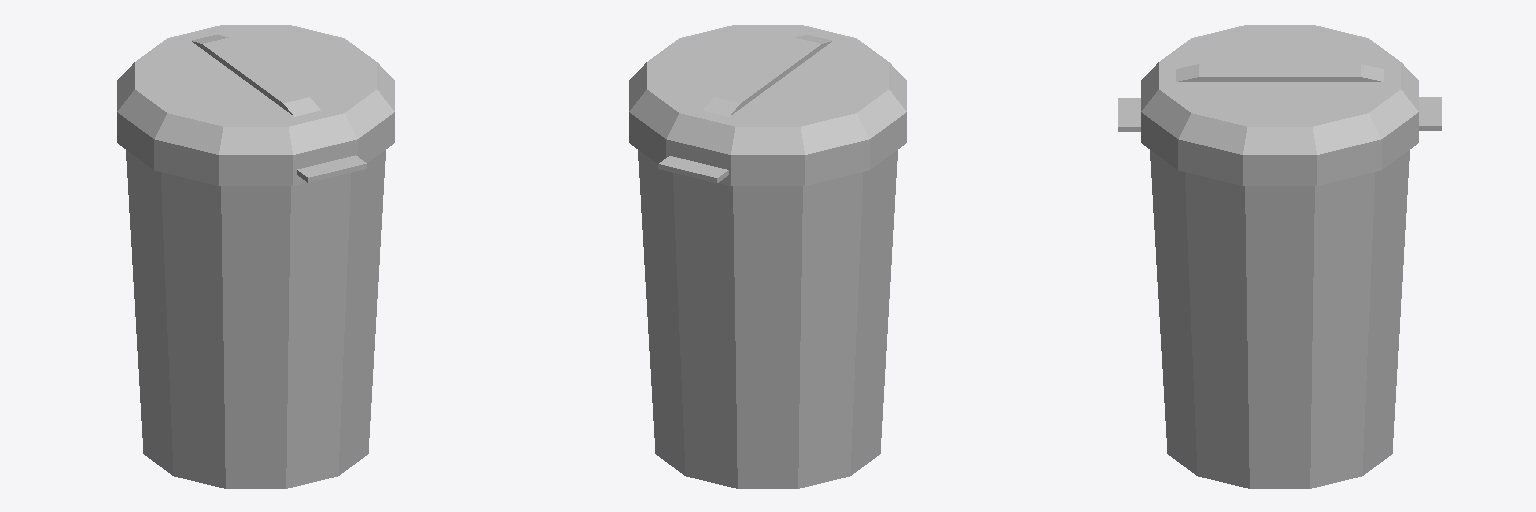
File: Trashcan_Plastic.obj
3 views of the same model, side by side, from view 1: azimuth 30°, elevation 25°; view 2: azimuth 150°, elevation 25°; view 3: azimuth 270°, elevation 25° (orthographic).
Visible parts, largest first — view 1: Mesh4 Component_3_2 Group2 Model, Mesh2 Component_2_2 Group1 Model, Mesh1 Component_2_1 Group1 Model, Mesh3 Component_3_1 Group2 Model; view 2: Mesh3 Component_3_1 Group2 Model, Mesh1 Component_2_1 Group1 Model, Mesh2 Component_2_2 Group1 Model, Mesh4 Component_3_2 Group2 Model; view 3: Mesh3 Component_3_1 Group2 Model, Mesh4 Component_3_2 Group2 Model, Mesh1 Component_2_1 Group1 Model, Mesh2 Component_2_2 Group1 Model.
Part boxes in pixels (x1,y1,x2,y2): Mesh4 Component_3_2 Group2 Model: (136, 112, 394, 488); Mesh2 Component_2_2 Group1 Model: (136, 50, 394, 154); Mesh1 Component_2_1 Group1 Model: (117, 25, 359, 125); Mesh3 Component_3_1 Group2 Model: (117, 112, 157, 464); Mesh3 Component_3_1 Group2 Model: (629, 112, 887, 488); Mesh1 Component_2_1 Group1 Model: (629, 50, 887, 154); Mesh2 Component_2_2 Group1 Model: (664, 25, 906, 125); Mesh4 Component_3_2 Group2 Model: (866, 112, 906, 464); Mesh3 Component_3_1 Group2 Model: (1280, 97, 1441, 488); Mesh4 Component_3_2 Group2 Model: (1118, 98, 1279, 488); Mesh1 Component_2_1 Group1 Model: (1280, 25, 1418, 154); Mesh2 Component_2_2 Group1 Model: (1141, 25, 1279, 154).
Size of the model in its own units: 24.47 by 36 by 28.47.